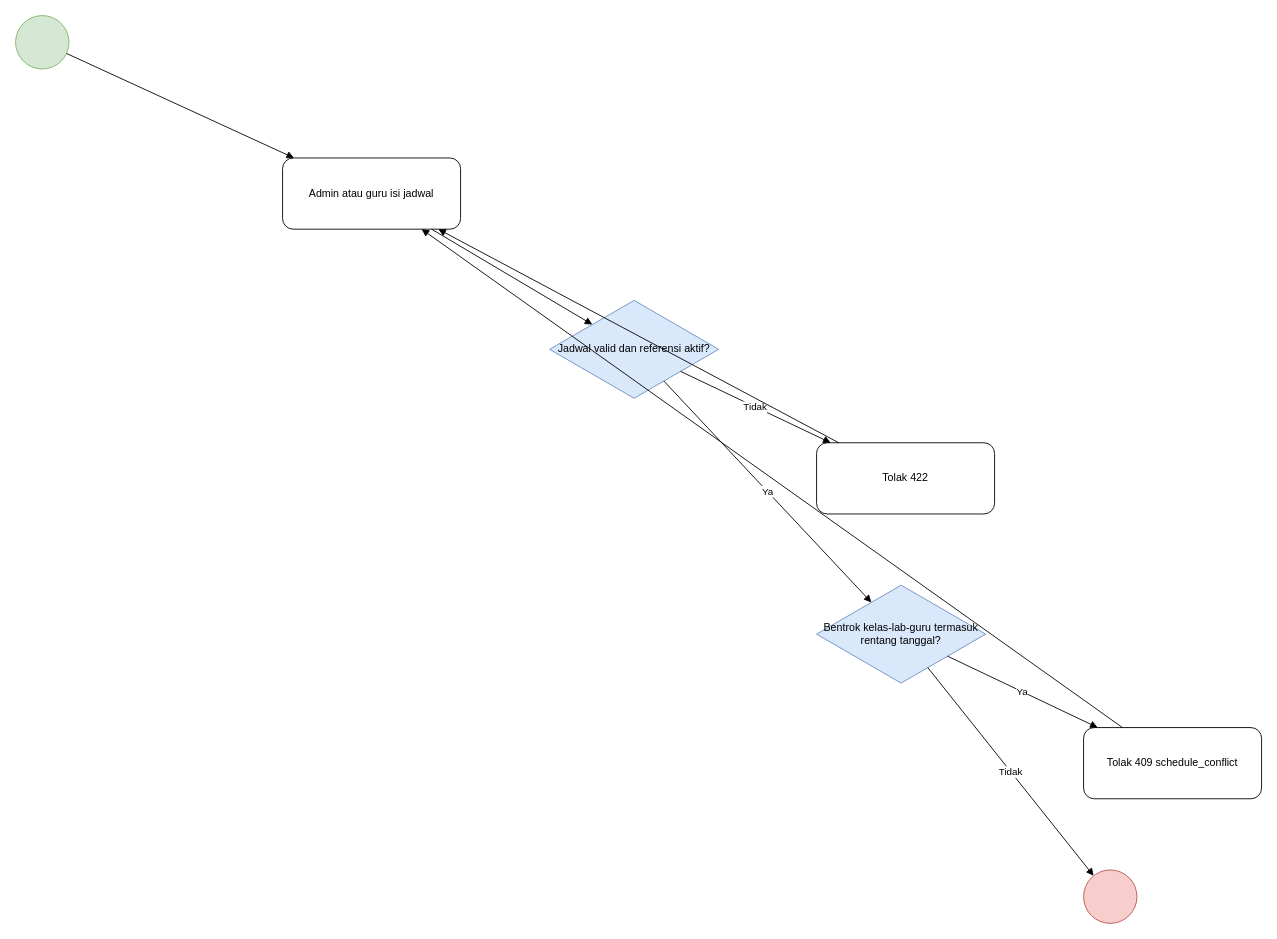
Some shapes in this 1277 by 939 pixel diagram are drawn without their labels. Here are the shapes that lost their labels. From the top down, the box of each, then its label:
(15, 15, 69, 69): Mulai
(1083, 869, 1137, 923): Jadwal aktif tersimpan
